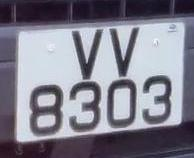0: (103, 75, 140, 133)
3: (64, 77, 107, 137), (138, 68, 176, 131)
8: (24, 75, 69, 143)
V: (69, 23, 106, 83), (105, 22, 142, 80)
